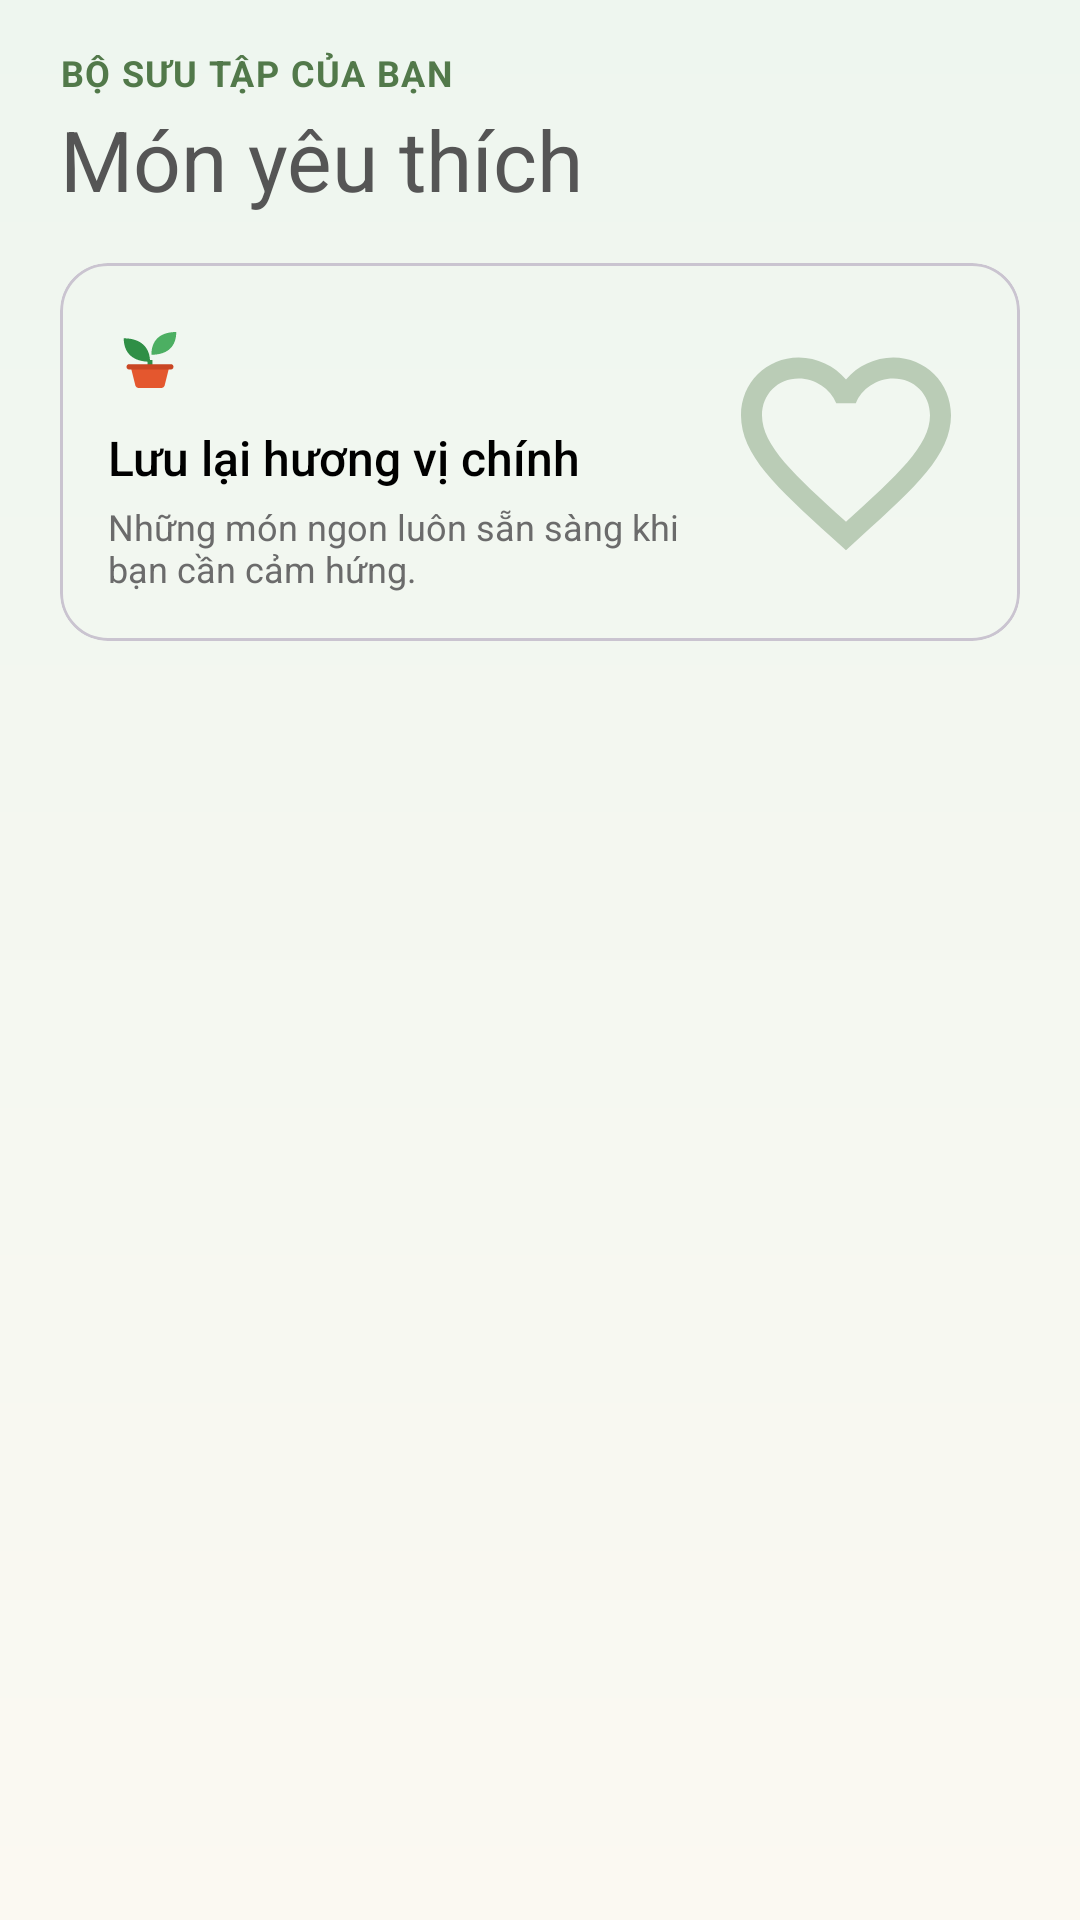

Named icons in this screenshot (1080*1920) and their centers, [x,y]:
heart: [846,453]
plant: [150,360]
